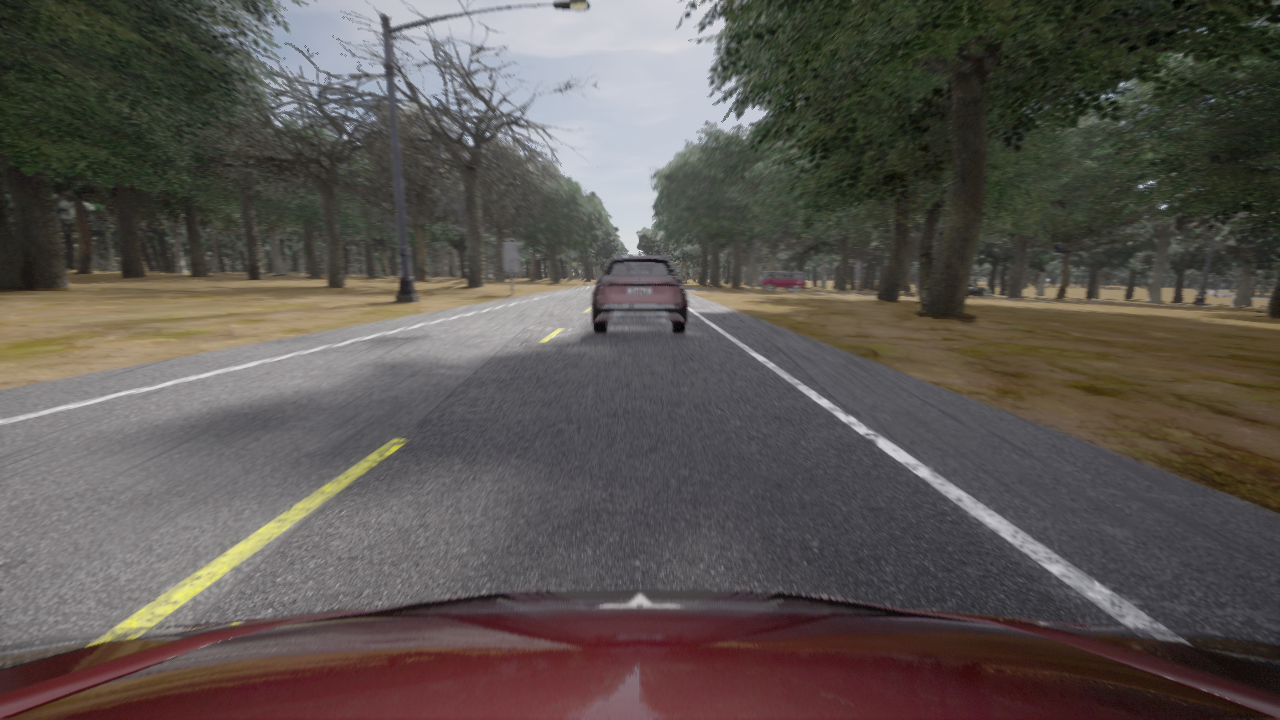cyclist: (0, 588, 1279, 719), (592, 253, 687, 333), (757, 271, 803, 291), (966, 283, 990, 298)
